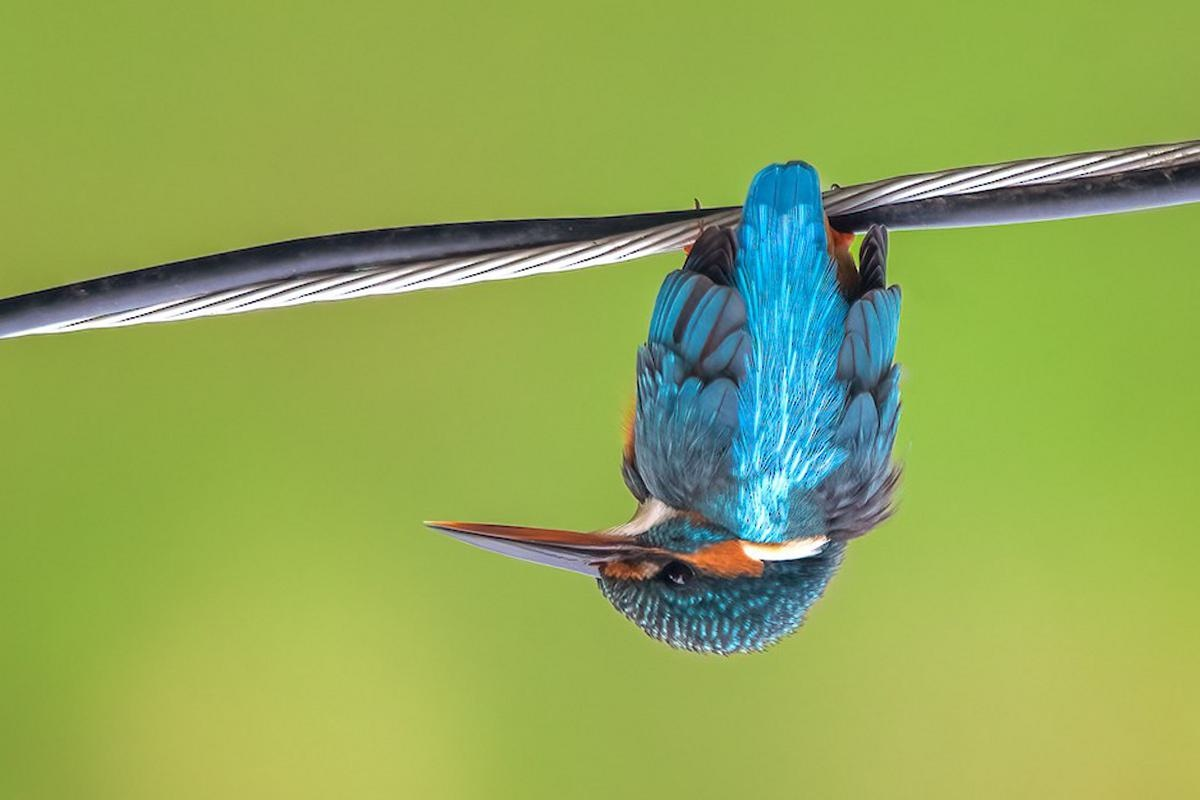kingfisher: (445, 171, 916, 670)
